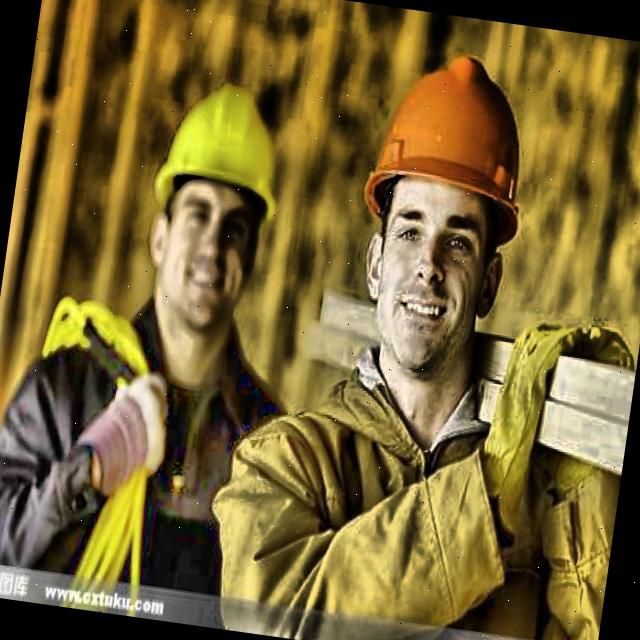helmet: (317, 23, 555, 405), (125, 56, 311, 385)
